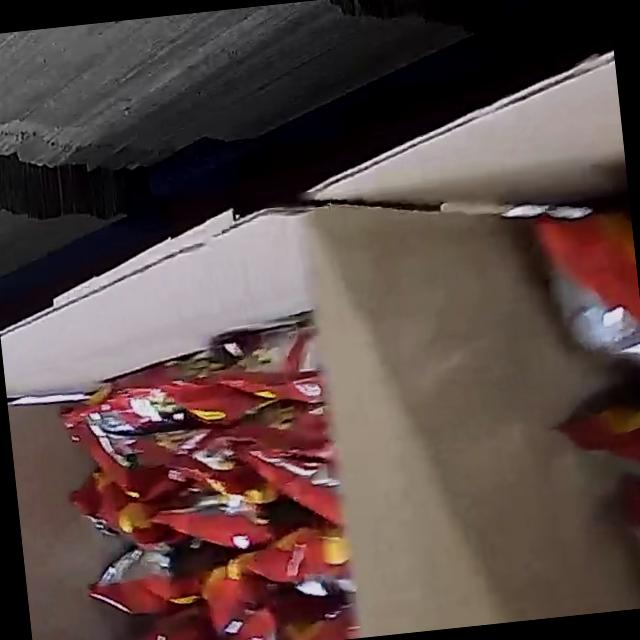masala: (44, 318, 364, 640), (514, 120, 640, 616)
